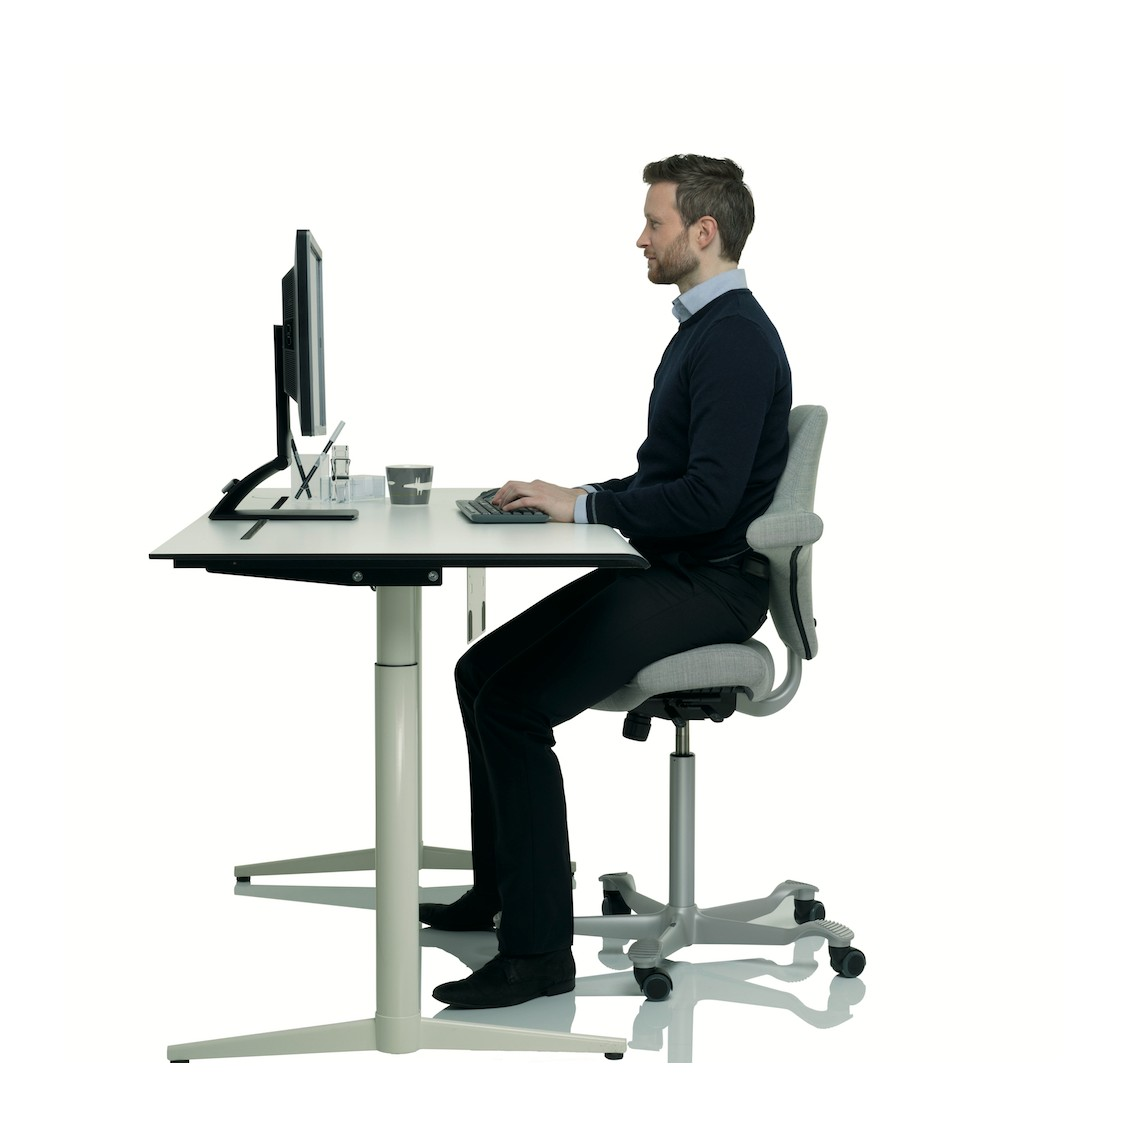chairs: (559, 390, 869, 1006)
